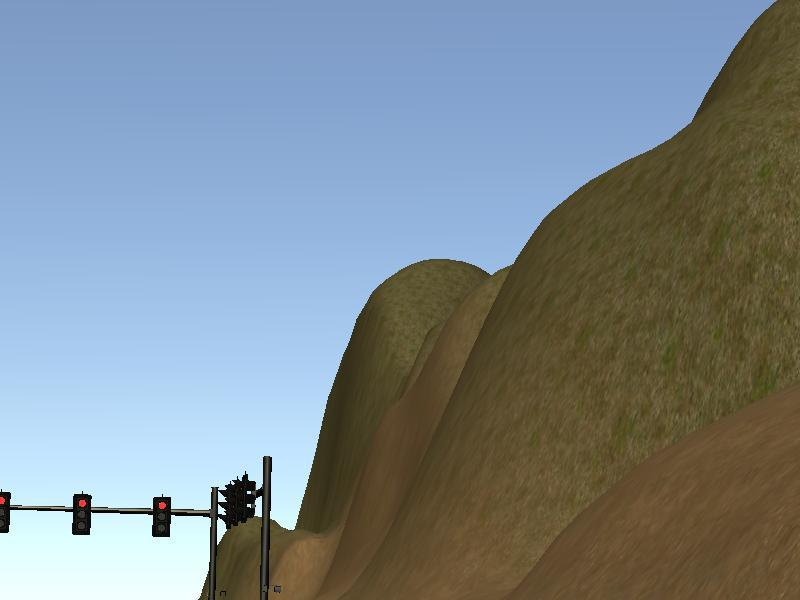Red: (73, 493, 91, 534), (152, 498, 170, 539), (1, 490, 10, 533)
